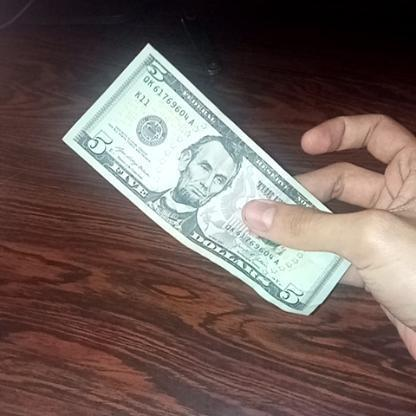five-front: (60, 38, 354, 321)
